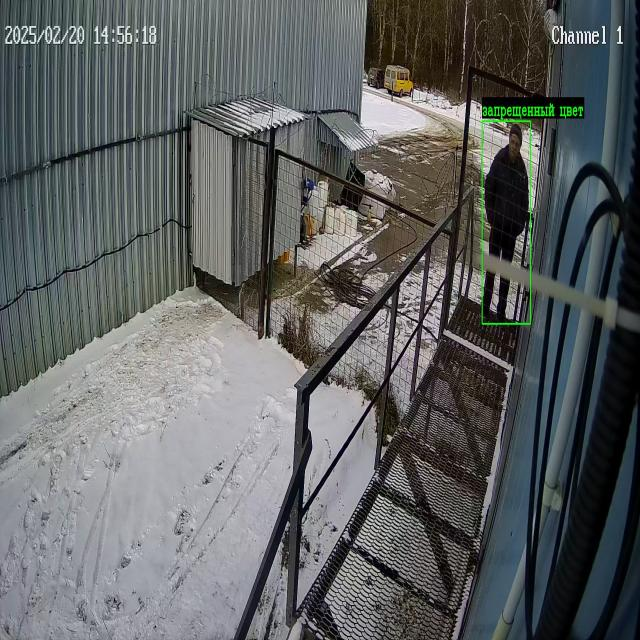Person: (484, 124, 529, 262), (483, 273, 494, 311), (497, 277, 509, 311)
